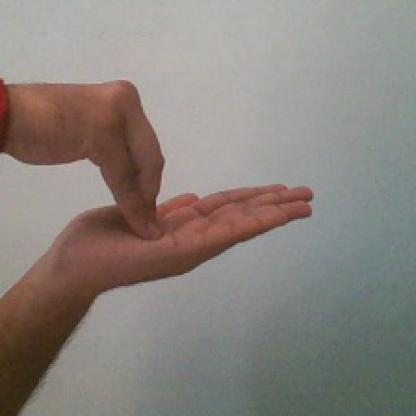Z: (13, 72, 330, 298)
